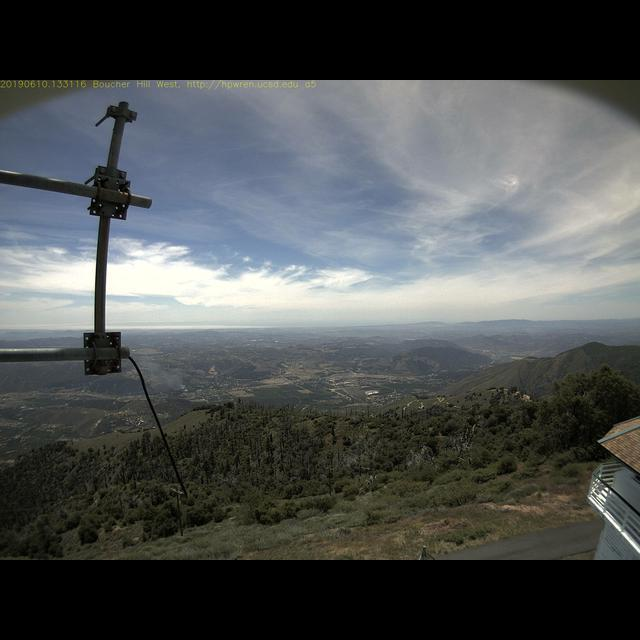Smoke: (125, 351, 189, 391)
